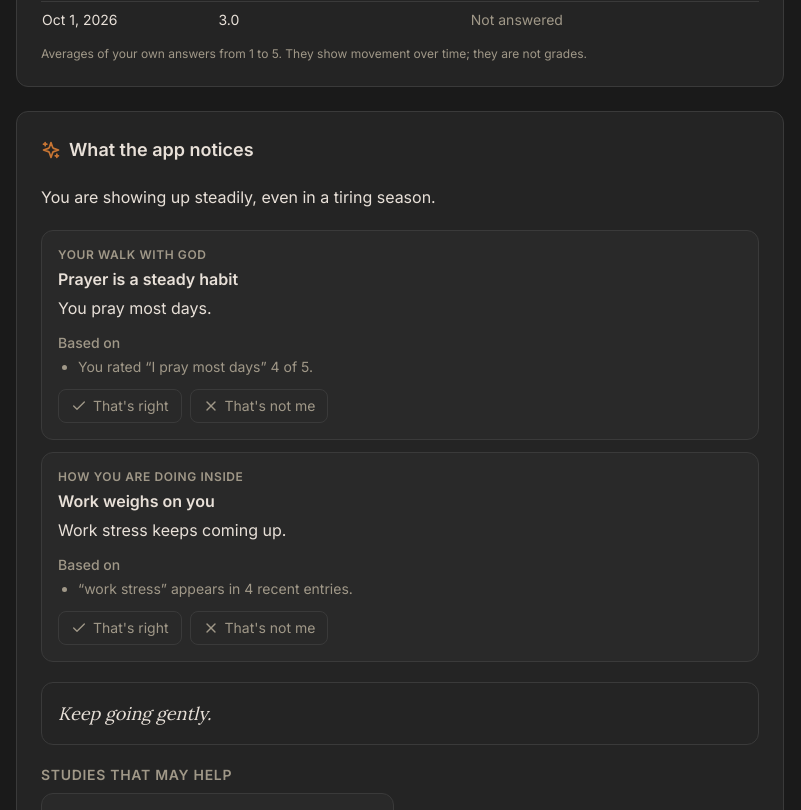
Test: ProfilePage profile view › posts insight feedback and clears it on a second click
The width and height of the screenshot is (801, 810).
(page scrolled)
Click the button "That's right" below "Prayer is a steady habit".
click(120, 406)  # box [58, 388, 182, 422]
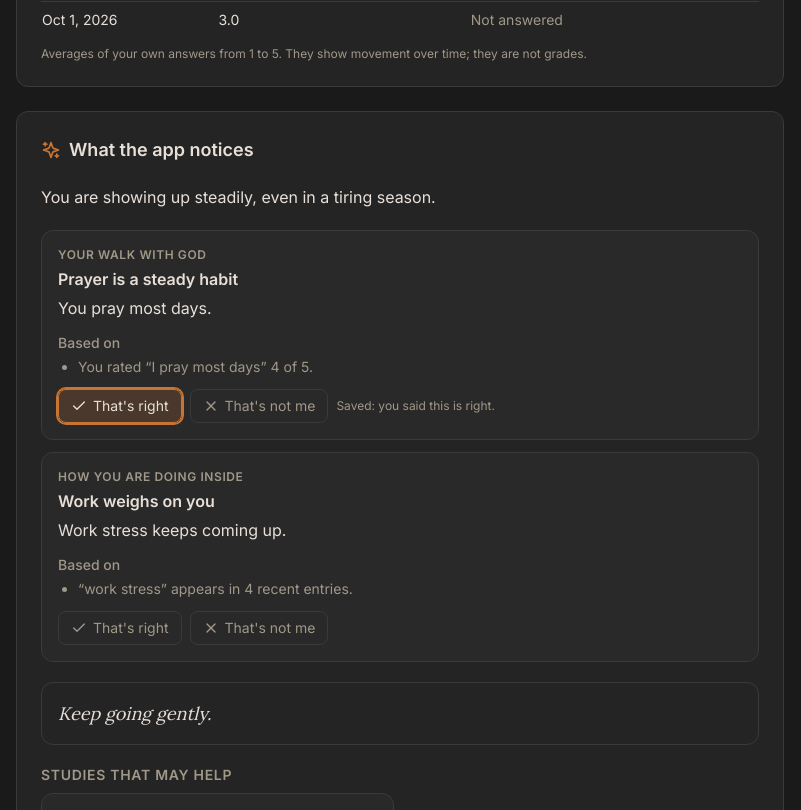
Result: the text "Saved: you said this is right." is shown at [336, 398, 495, 414]
Click the button "That's right" in the row of "Saved: you said this is right.".
click(120, 406)  # box [58, 388, 182, 422]
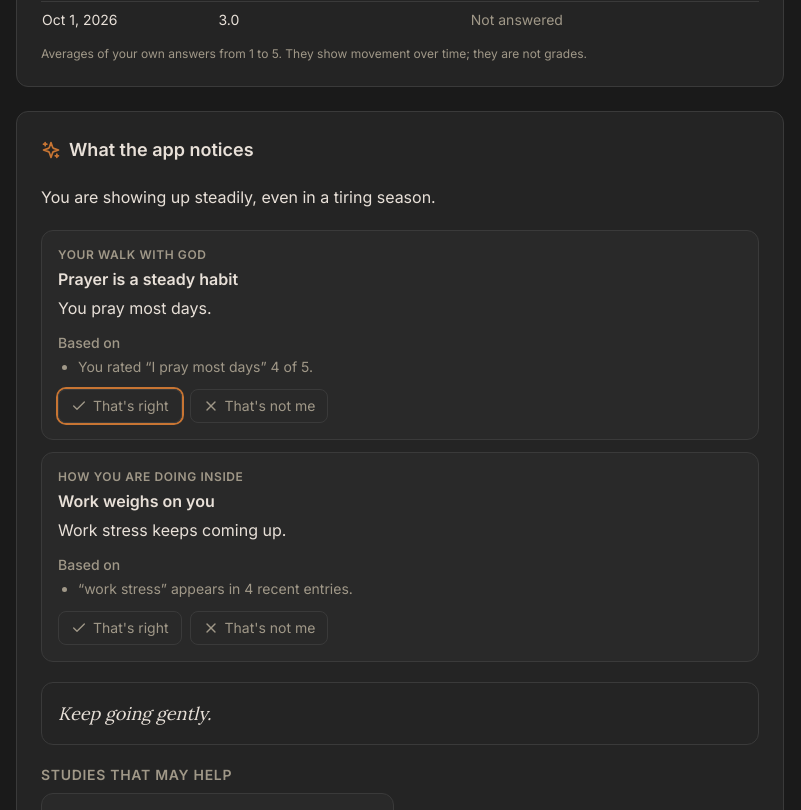
Result: the button "That's right" below "Prayer is a steady habit" is not pressed at [58, 388, 182, 422]
Click the button "That's not me" below "Prayer is a steady habit".
click(259, 406)  # box [190, 388, 328, 422]
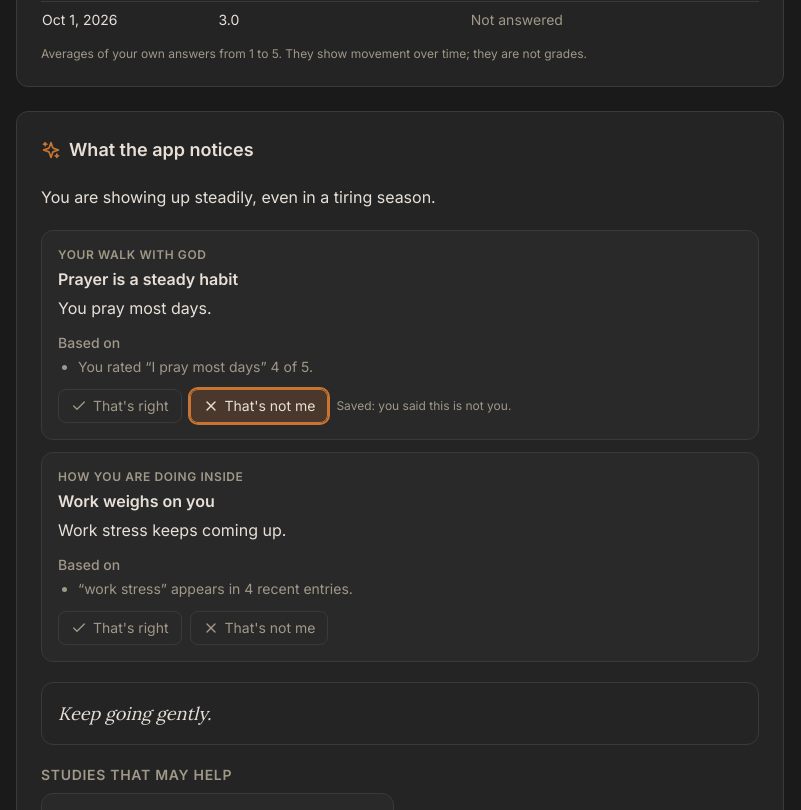
Result: the text "Saved: you said this is not you." is shown at [336, 398, 511, 414]
